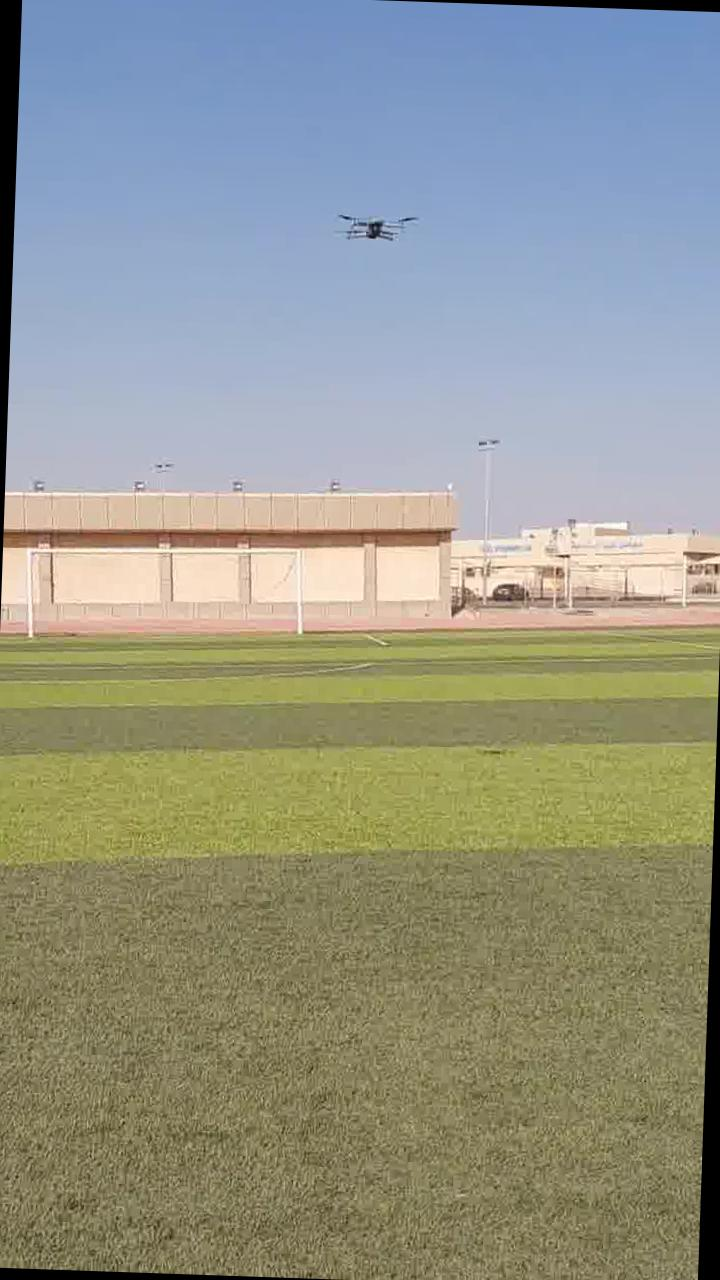drone: (326, 198, 410, 260)
